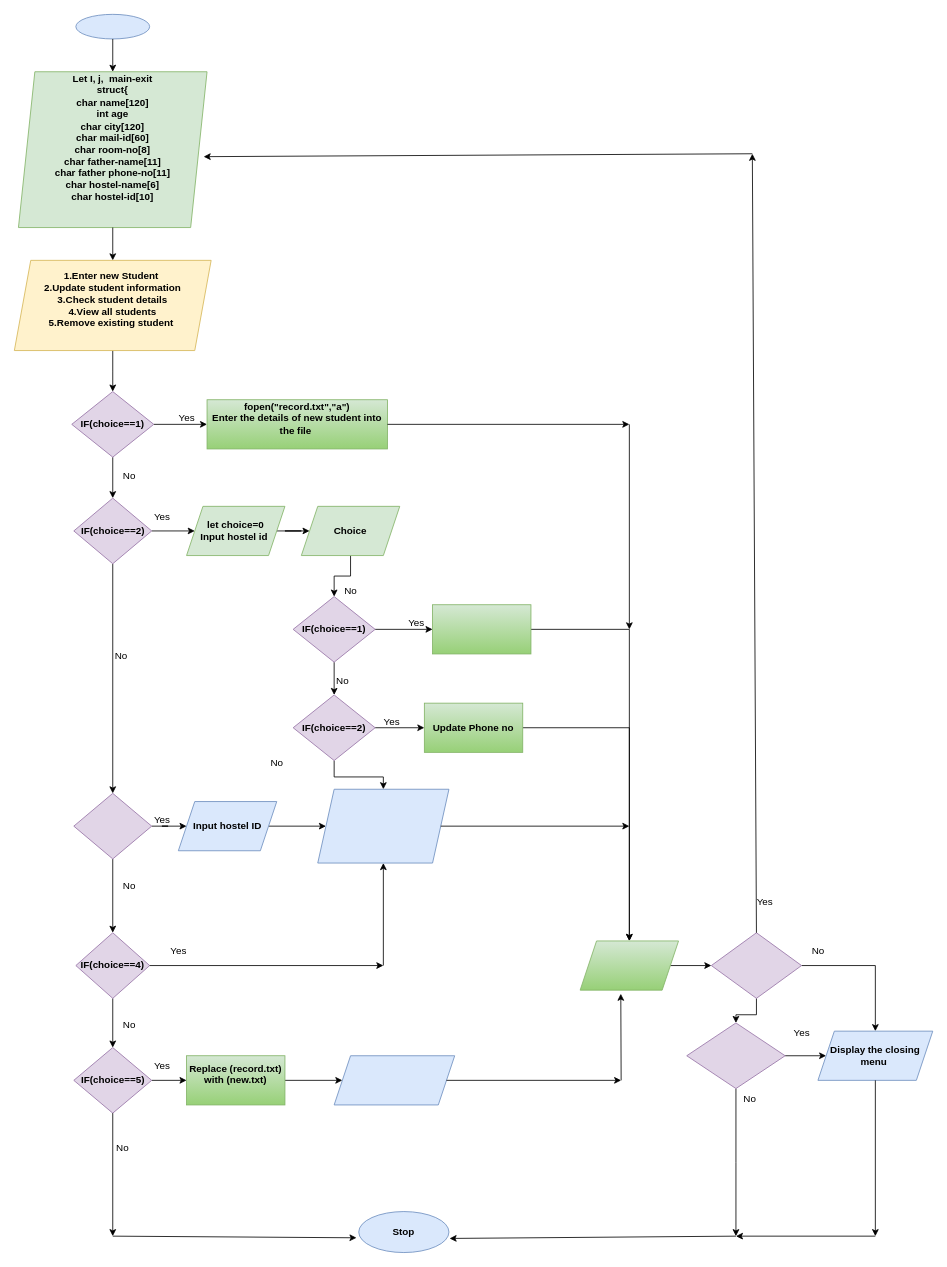
This 947x1267 diagram has some shape labels left out. The shapes that lost their labels are listed below. From the top down, each one's centre as x and y in pixels, then its label:
the point at 112,26: Start
the point at 481,629: Update Room no
the point at 112,826: IF(choice==3)
the point at 383,825: fopen("record.txt","r") Display all the details of the student
the point at 629,965: MAIN Exit
the point at 756,965: I IF(main-exit==1)
the point at 735,1055: IF(main-exit==2)
the point at 394,1080: DIsplay new.txt fopen("new.txt","r")
